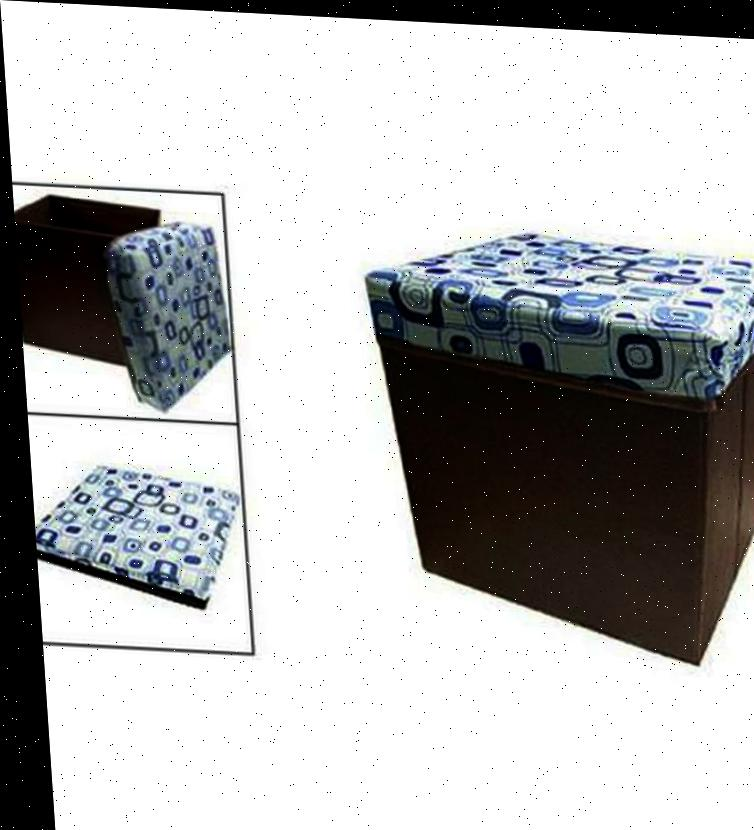cube: (353, 214, 754, 669)
